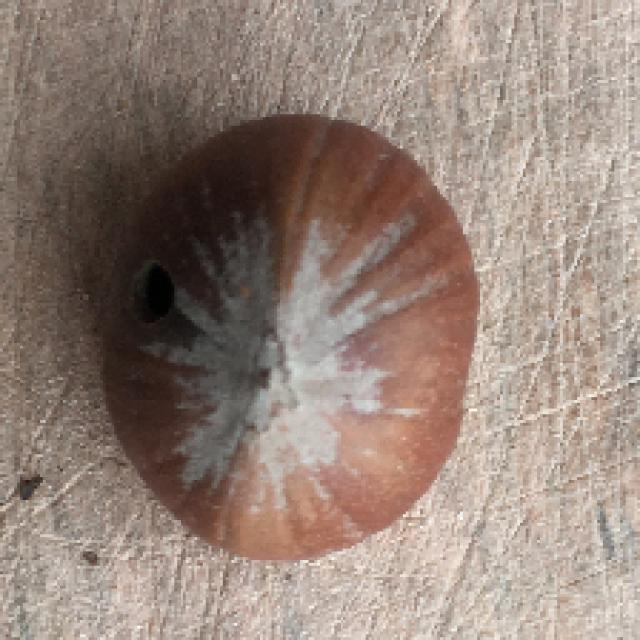damagedHazelnut: (99, 115, 477, 555)
